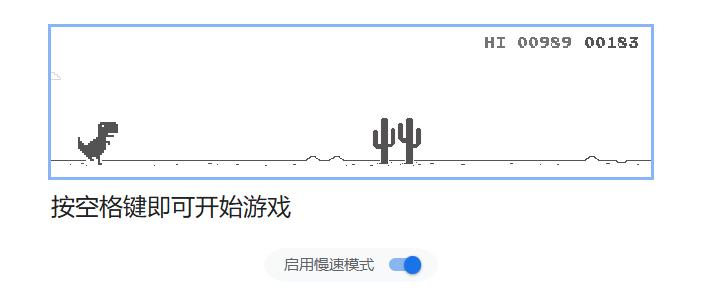cactus: (372, 117, 423, 166)
dino: (76, 120, 119, 165)
